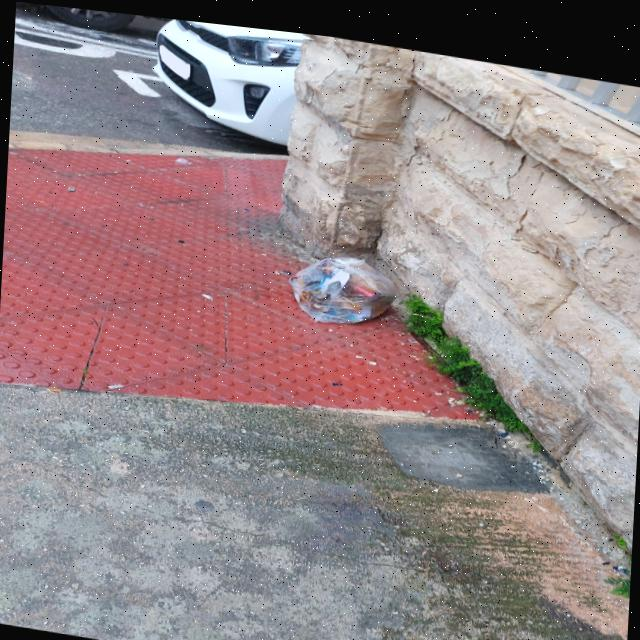Organic Waste -White Bag-: (288, 242, 401, 327)
